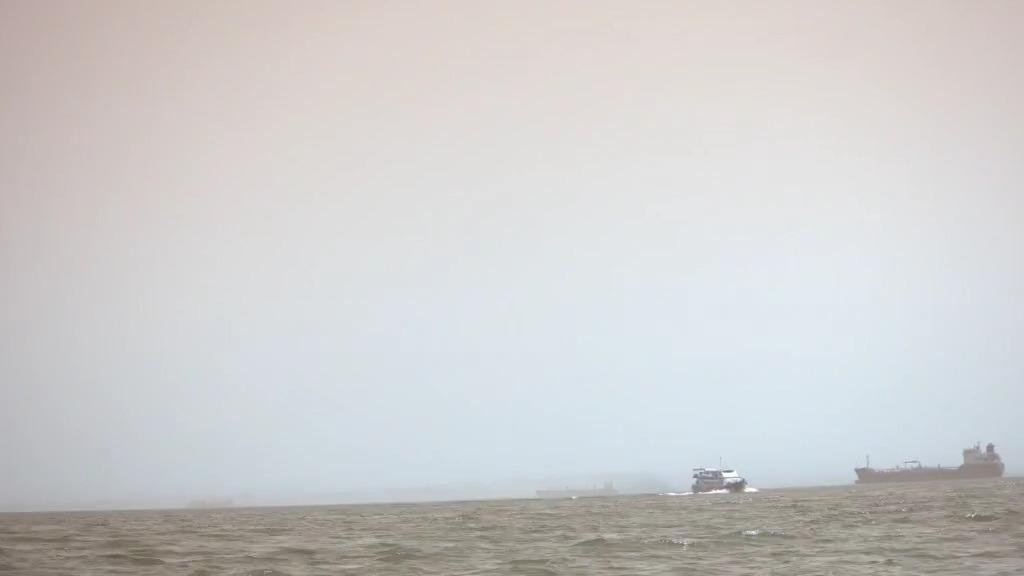PassengerShip: (688, 458, 752, 499)
